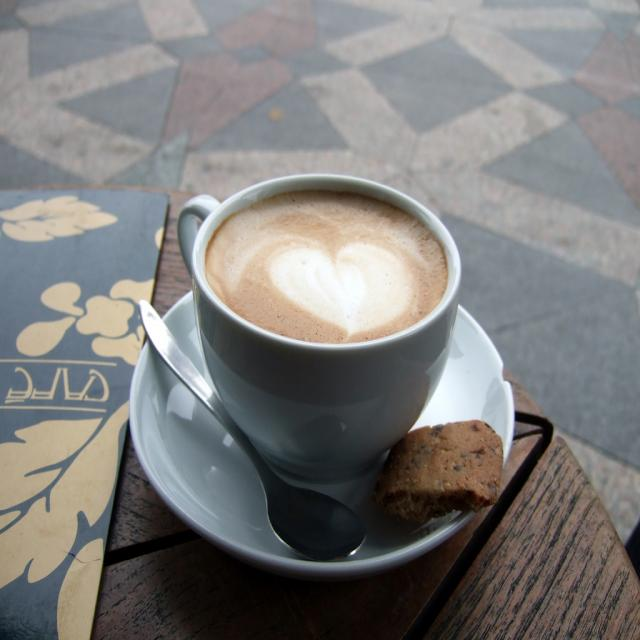Coffee: (162, 170, 396, 466)
Tea: (205, 182, 448, 350)
